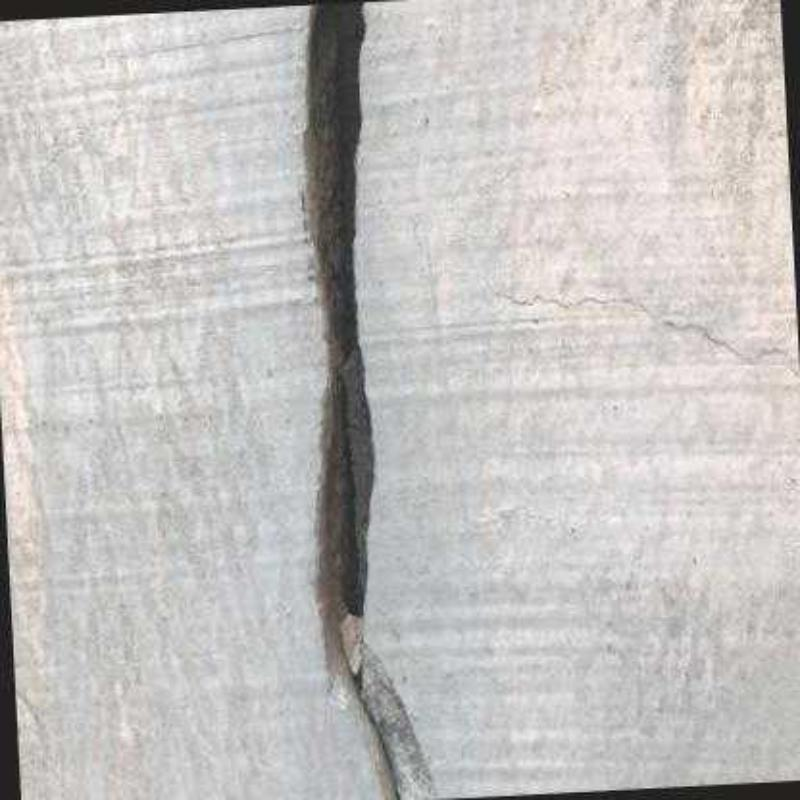pothole: (300, 1, 403, 798), (490, 292, 798, 377)
